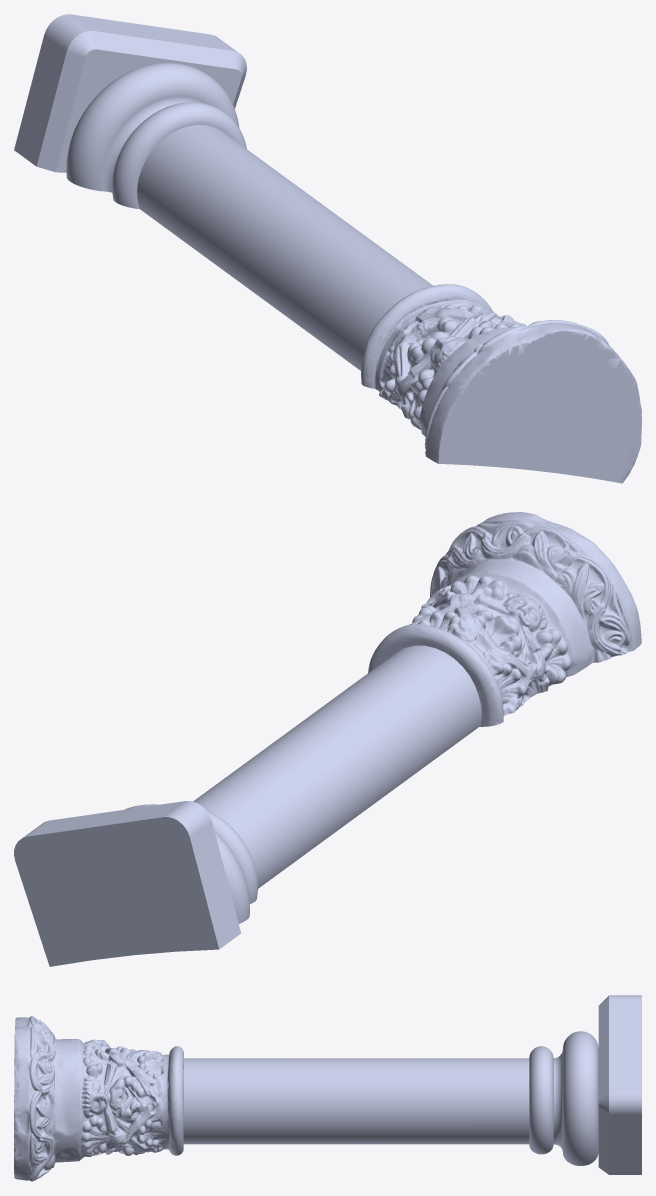
File: Chapiteau_10_ultra_final.glb
The picture shows the model from 3 angles, top to bottom: view 1: azimuth 30°, elevation 25°; view 2: azimuth 150°, elevation 25°; view 3: azimuth 270°, elevation 25°; orthographic projection. The views are drawn at different scales.
Parts seen in each view (by area): view 1: final; view 2: final; view 3: final.
Part boxes in pixels (x1,y1,x2,y2): final: (14,14,641,483); final: (14,512,641,966); final: (14,995,641,1181).
Size of the model in its own units: 1.06 by 0.8704 by 3.62.
